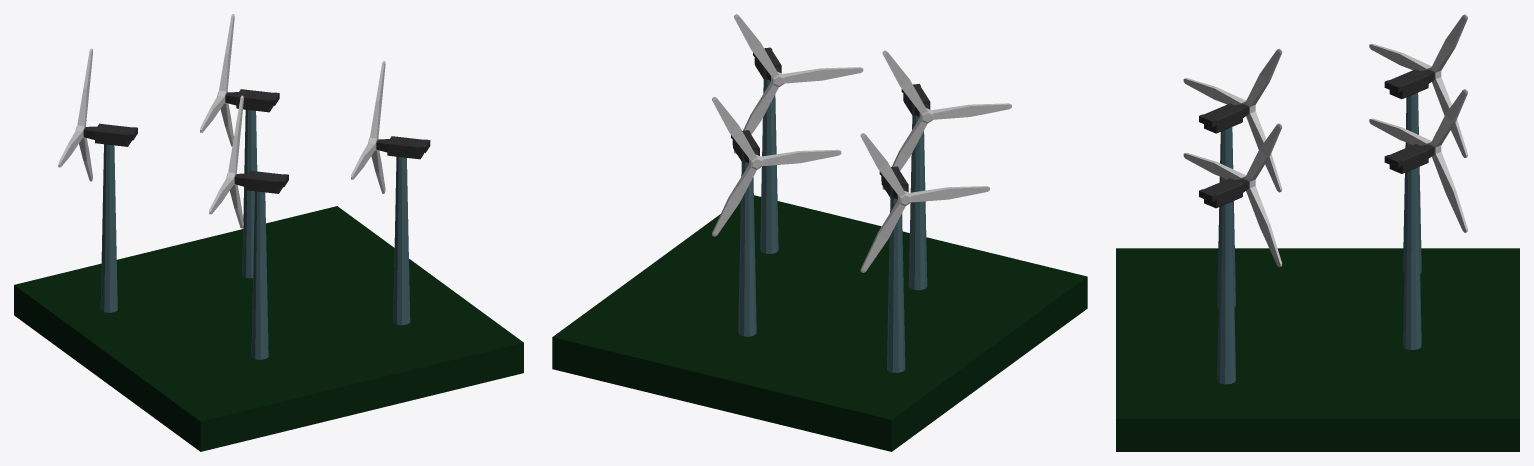
Rendered from AirES.FBX.
3 views of the same model, side by side, from view 1: azimuth 30°, elevation 25°; view 2: azimuth 150°, elevation 25°; view 3: azimuth 270°, elevation 25° (orthographic). The views are drawn at different scales.
Visible parts, largest first — view 1: air_es; view 2: air_es; view 3: air_es.
Part boxes in pixels (x1,y1,x2,y2): air_es: [14, 14, 523, 451]; air_es: [552, 14, 1087, 451]; air_es: [1116, 14, 1519, 451].
Size of the model in its own units: 10759 by 8053 by 10000.
